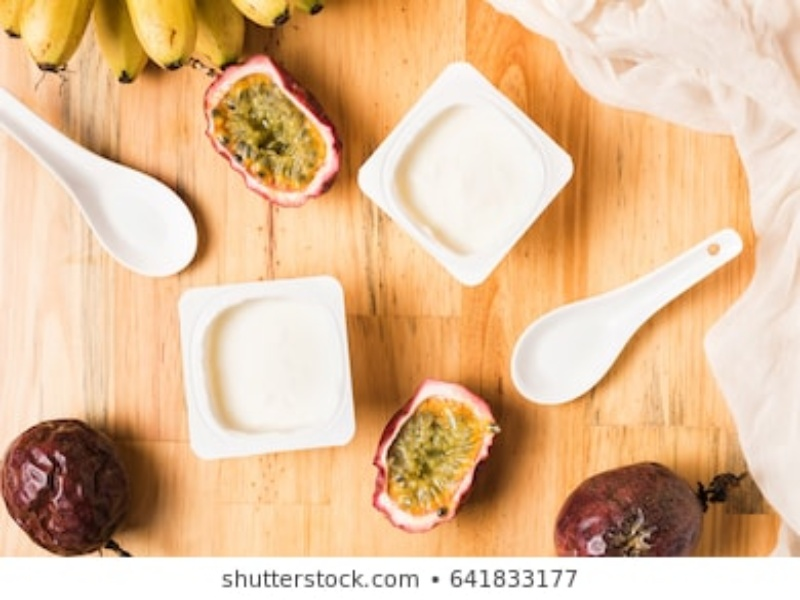plastic-silverware: (509, 226, 748, 405), (1, 84, 198, 277)
yogurt-cup: (354, 60, 578, 287), (176, 274, 358, 459)
